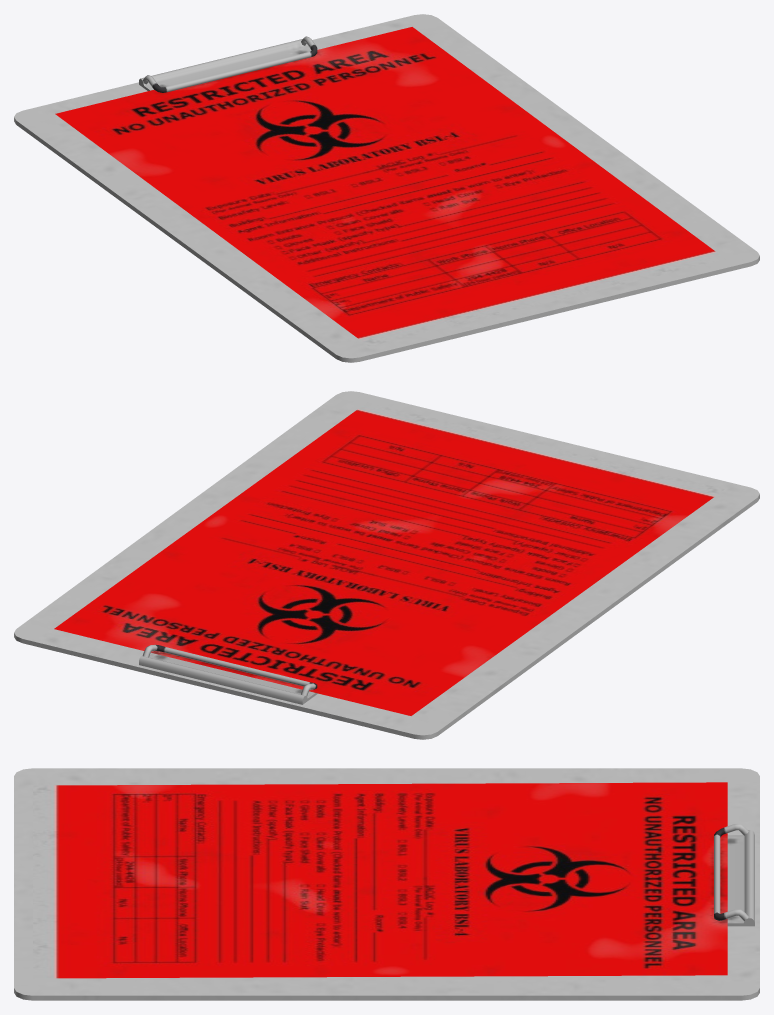
Rendered from information_paper_-_laboratory__pbr__free.glb.
3 views of the same model, one above another, from view 1: azimuth 30°, elevation 25°; view 2: azimuth 150°, elevation 25°; view 3: azimuth 270°, elevation 25° (orthographic). The views are drawn at different scales.
Visible parts, largest first — view 1: Informartion_paper_NakedSingularity; view 2: Informartion_paper_NakedSingularity; view 3: Informartion_paper_NakedSingularity.
Boxes of the visible parts, bbox=[...] form: Informartion_paper_NakedSingularity: bbox=[14, 14, 759, 362]; Informartion_paper_NakedSingularity: bbox=[14, 391, 759, 739]; Informartion_paper_NakedSingularity: bbox=[14, 768, 759, 1000].
Size of the model in its own units: 0.2268 by 0.00936 by 0.3144.
1 material, 1 textured.
